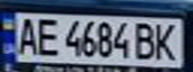4: (60, 17, 84, 57), (112, 19, 133, 60)
6: (78, 18, 100, 57)
8: (96, 19, 115, 58)
A: (12, 15, 42, 56)
B: (133, 19, 160, 61)
E: (33, 15, 60, 57)
K: (151, 20, 181, 62)
